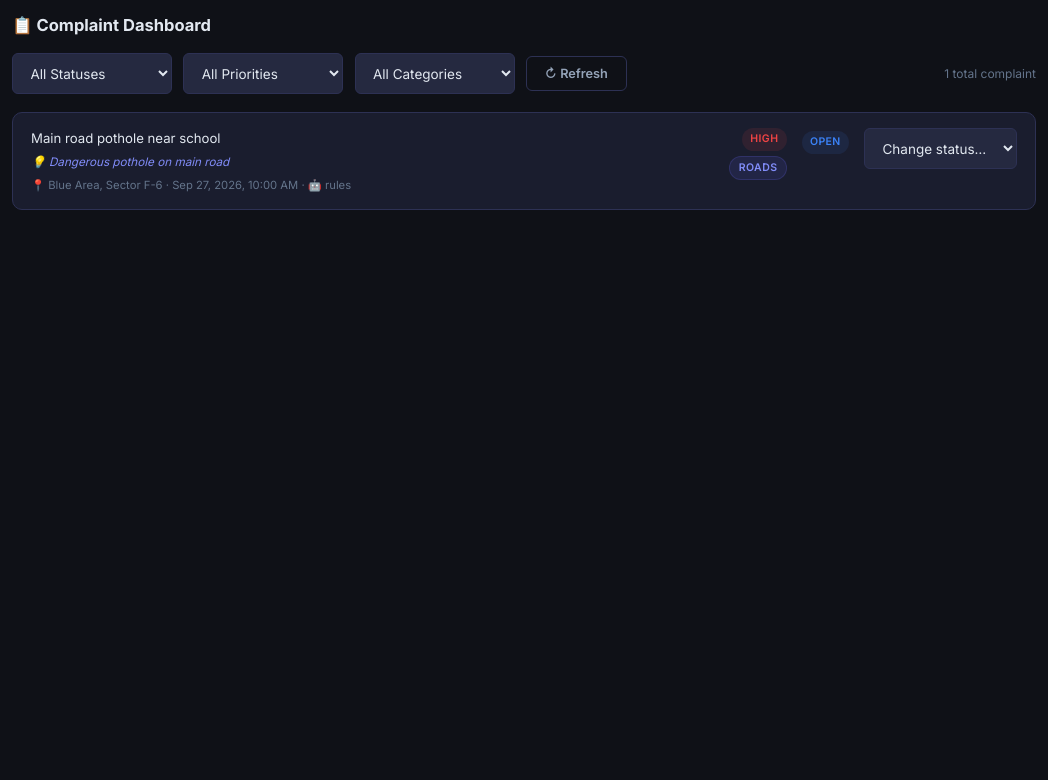
it: DashboardPage › displays the server's exact 409 error message when transition is rejected
The width and height of the screenshot is (1048, 780).
expect the text "Main road pothole near school" is shown: met, box [31,130,221,146]
Select "→ Resolved" in the dropdown showing "Change status…" next to "Open" at (940,149), box [864,128,1017,169]
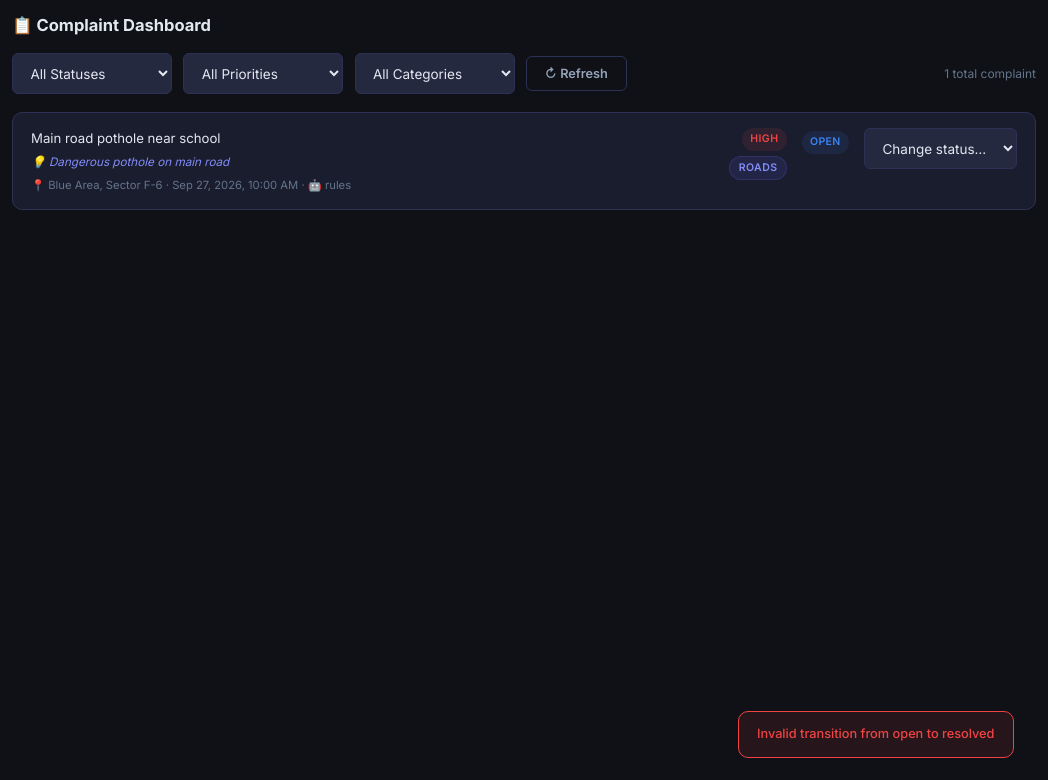
expect the text "Invalid transition from open to resolved" is shown: met, box [738,711,1014,758]
